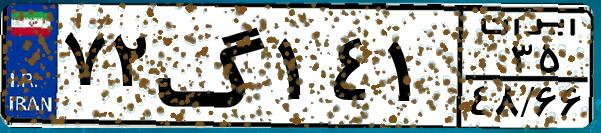1: (270, 28, 330, 110), (385, 28, 445, 110)
2: (110, 28, 156, 98)
3: (508, 27, 537, 80)
4: (330, 28, 385, 110), (470, 70, 495, 125)
5: (537, 27, 568, 80)
6: (560, 70, 590, 125), (535, 70, 560, 125)
7: (57, 26, 110, 100)
8: (495, 70, 520, 125)
گ: (156, 12, 270, 120)
